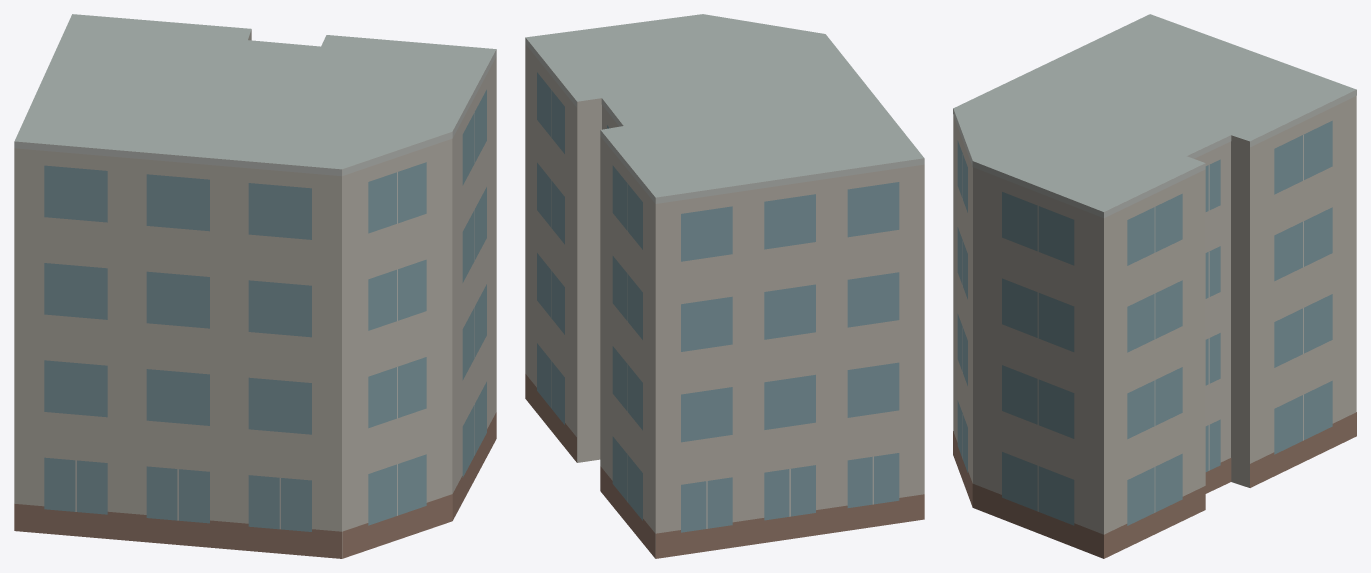
File: survey-upis-32846994.glb
The picture shows the model from 3 angles, left to right: view 1: azimuth 30°, elevation 25°; view 2: azimuth 150°, elevation 25°; view 3: azimuth 270°, elevation 25°; orthographic projection. The views are drawn at different scales.
Visible parts, largest first — view 1: survey-upis-32846994.tmp; view 2: survey-upis-32846994.tmp; view 3: survey-upis-32846994.tmp.
Part boxes in pixels (<box>): survey-upis-32846994.tmp: <box>14,14,496,558</box>; survey-upis-32846994.tmp: <box>525,14,924,558</box>; survey-upis-32846994.tmp: <box>953,14,1356,558</box>.
Size of the model in its own units: 16.92 by 13.8 by 14.56.
